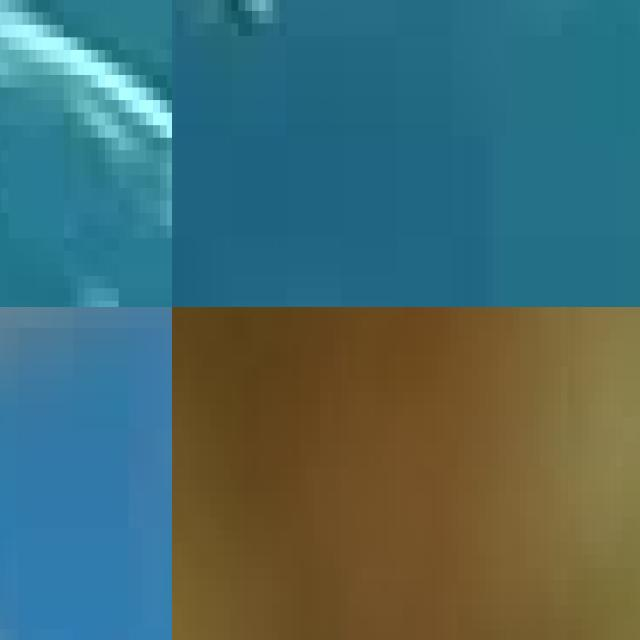fish: (0, 307, 172, 640), (0, 0, 172, 307)
